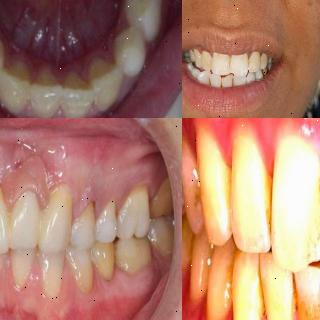Gum Swelling: (182, 118, 247, 166), (247, 118, 297, 176), (1, 157, 52, 206), (0, 257, 48, 302), (296, 118, 320, 162)
cavities: (126, 0, 163, 12), (182, 202, 188, 268), (102, 268, 114, 294)
maligned: (196, 69, 210, 85), (208, 72, 222, 88), (221, 72, 233, 88), (245, 70, 258, 84)
plaque: (1, 89, 119, 118), (220, 157, 241, 227), (122, 182, 150, 224), (150, 177, 175, 215), (150, 217, 174, 252), (32, 208, 53, 242), (202, 52, 213, 68), (251, 52, 261, 64), (261, 53, 269, 63)
stains: (258, 170, 280, 240), (296, 256, 320, 320), (187, 165, 209, 231), (307, 174, 320, 255), (226, 55, 234, 69), (230, 76, 238, 87), (208, 76, 214, 88), (246, 58, 252, 68), (218, 81, 224, 89)
